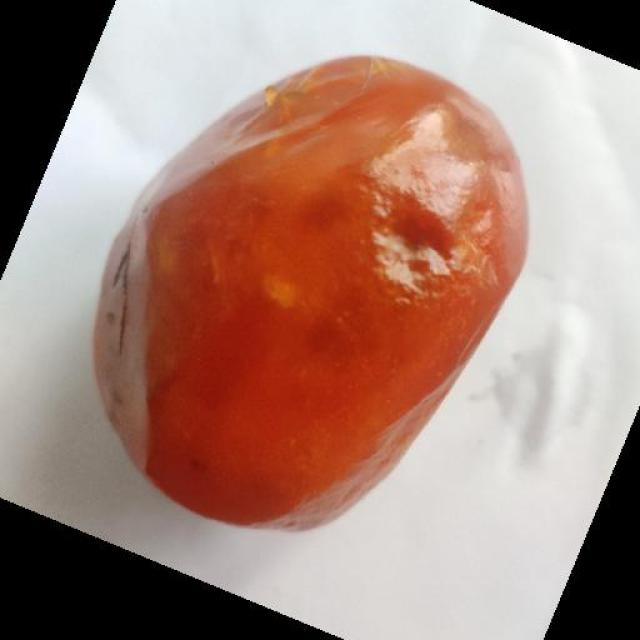Stale_tomato: (77, 49, 491, 482)
